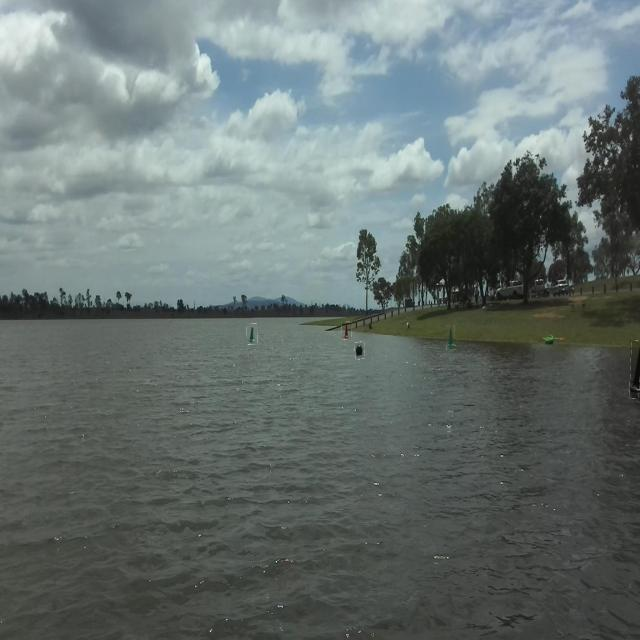Black_Buoy: (629, 341, 640, 411), (354, 339, 369, 365)
Green_Buoy: (446, 322, 460, 356), (245, 317, 258, 352)
Red_Buoy: (343, 315, 351, 354)
